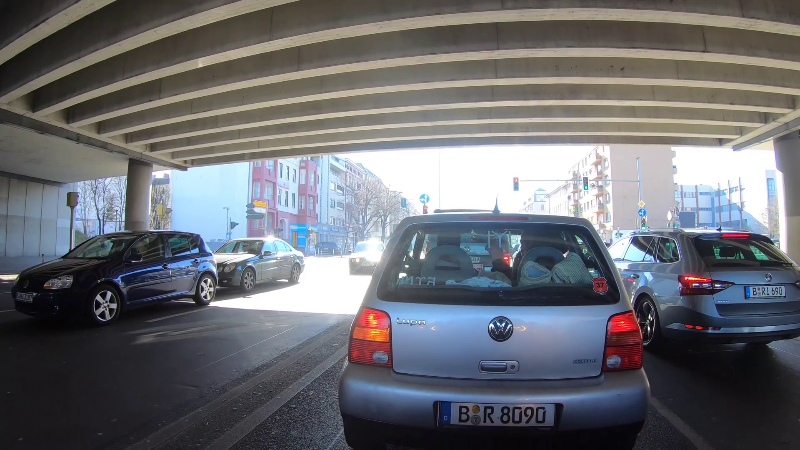Plate: (430, 396, 558, 430), (741, 284, 786, 297), (13, 291, 34, 302)
